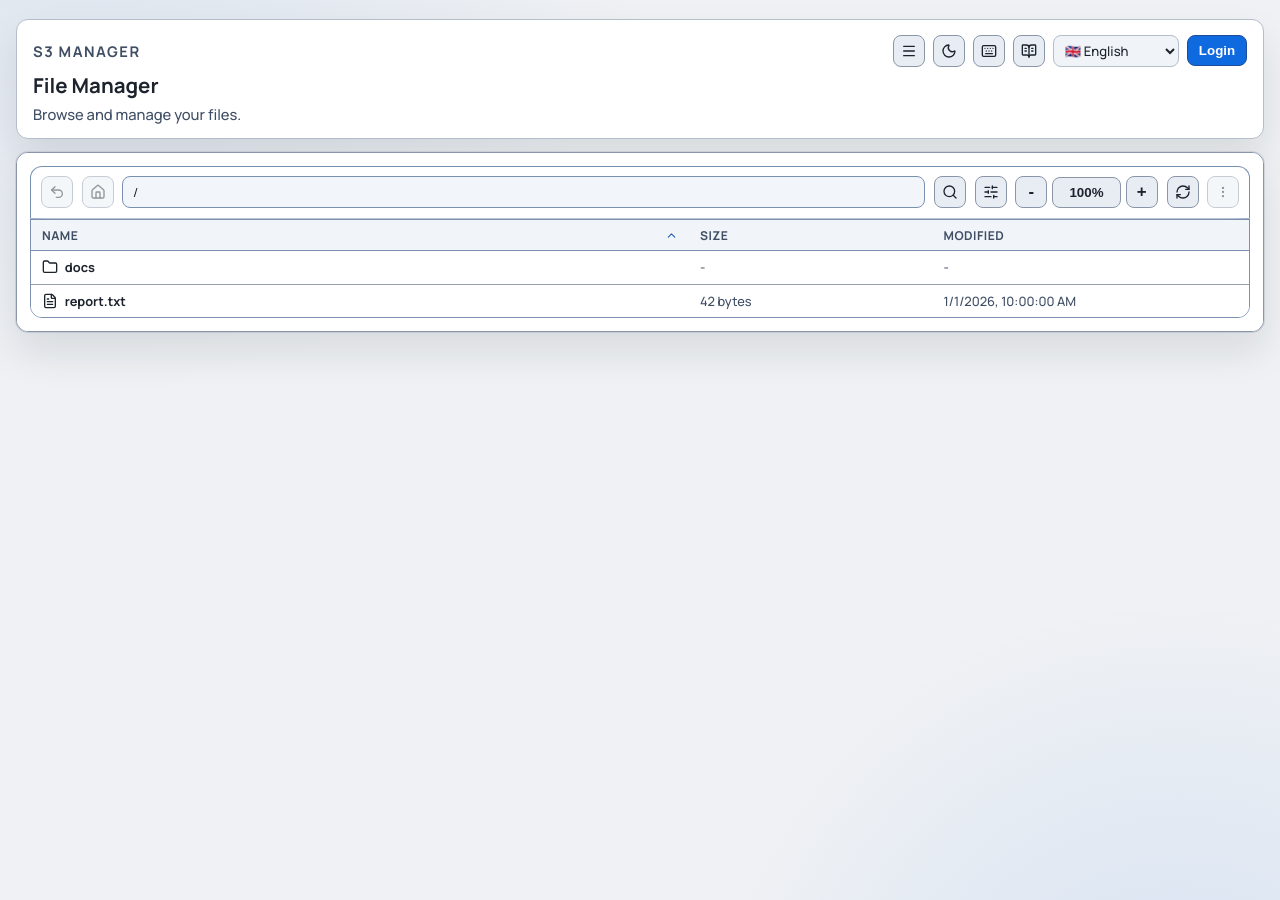
Test case: Browser parity interactions › opens grouped context menu on right click
Right-click the text "report.txt".
right_click(95, 301)  # box [65,292,126,310]
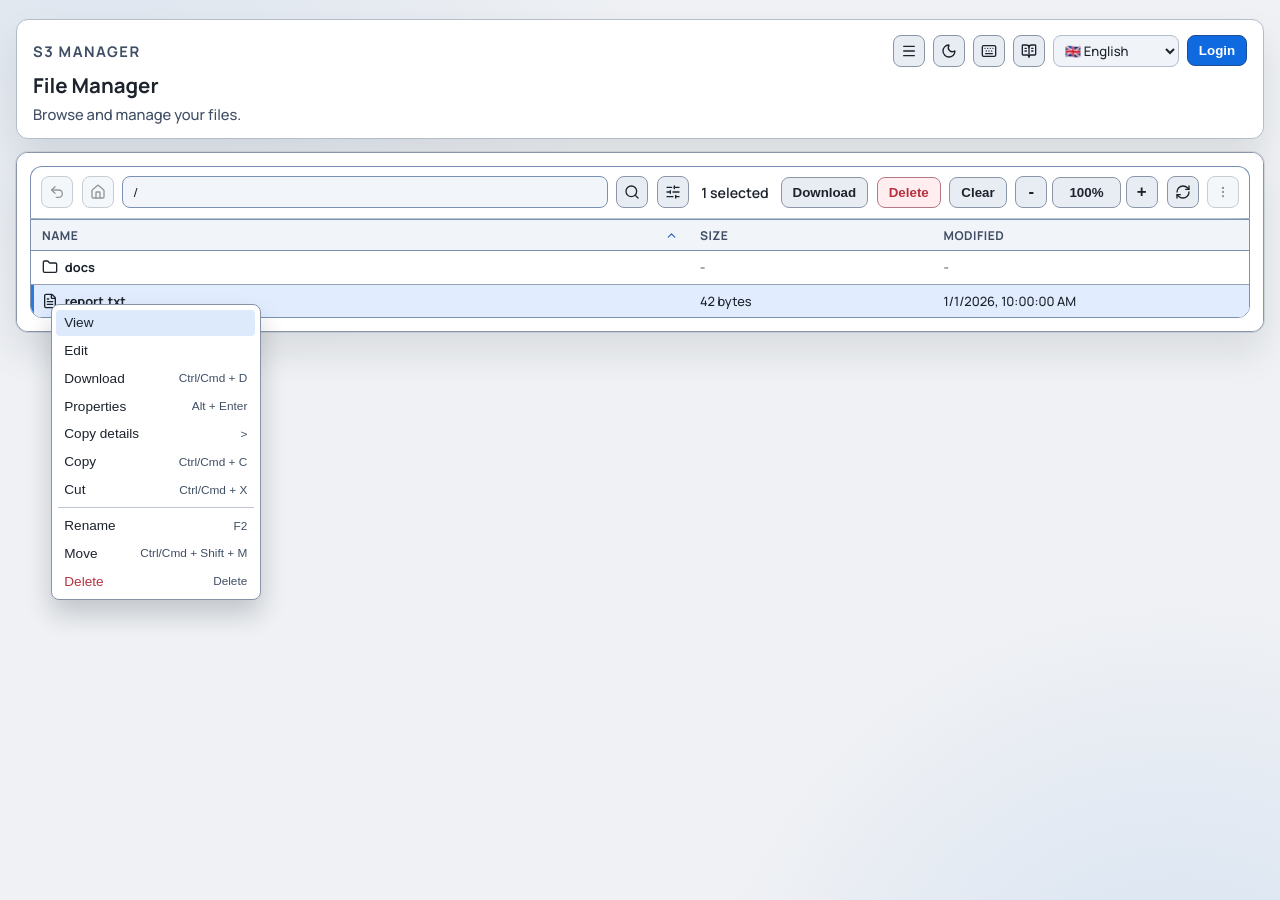
Now the text "Properties" is shown, box [64,399,126,414]
Now the text "Rename" is shown, box [64,518,116,533]
Now the text "Move" is shown, box [64,546,98,561]
